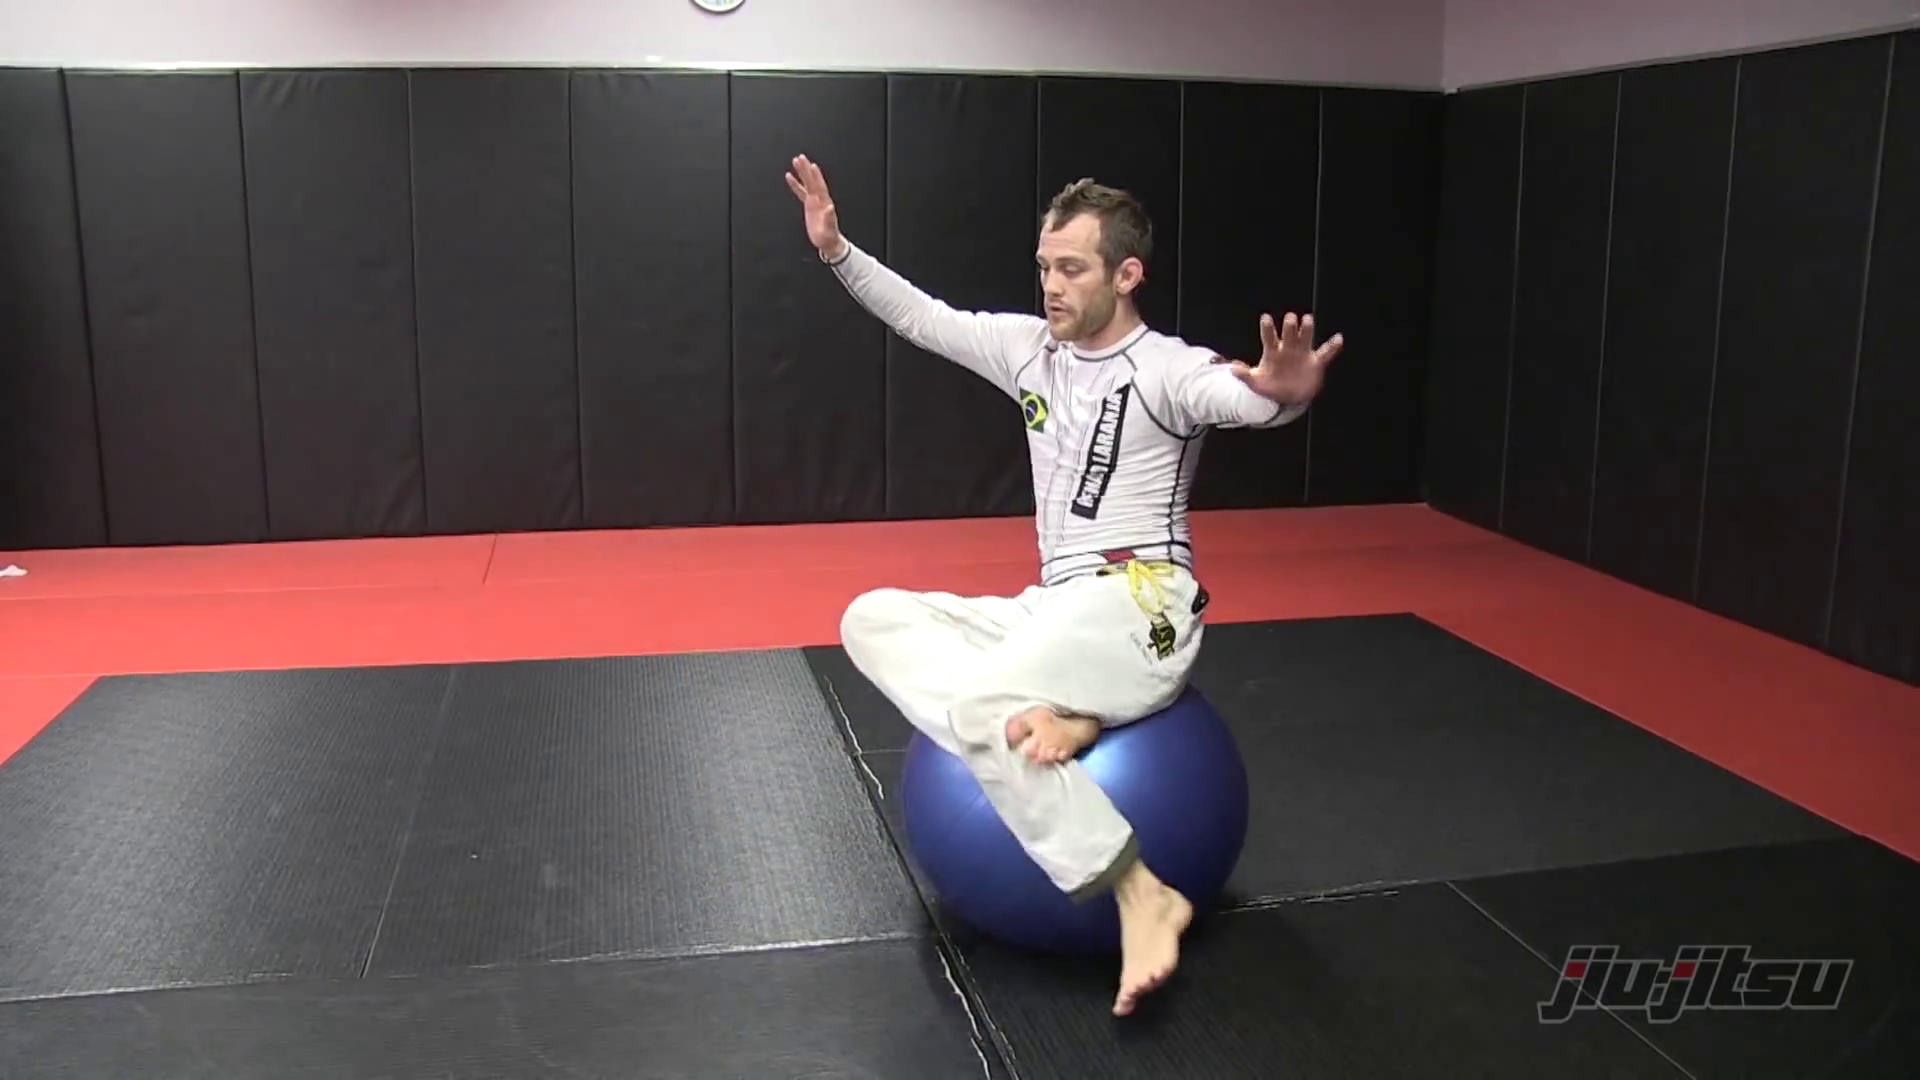yogaball: (889, 680, 1261, 978)
